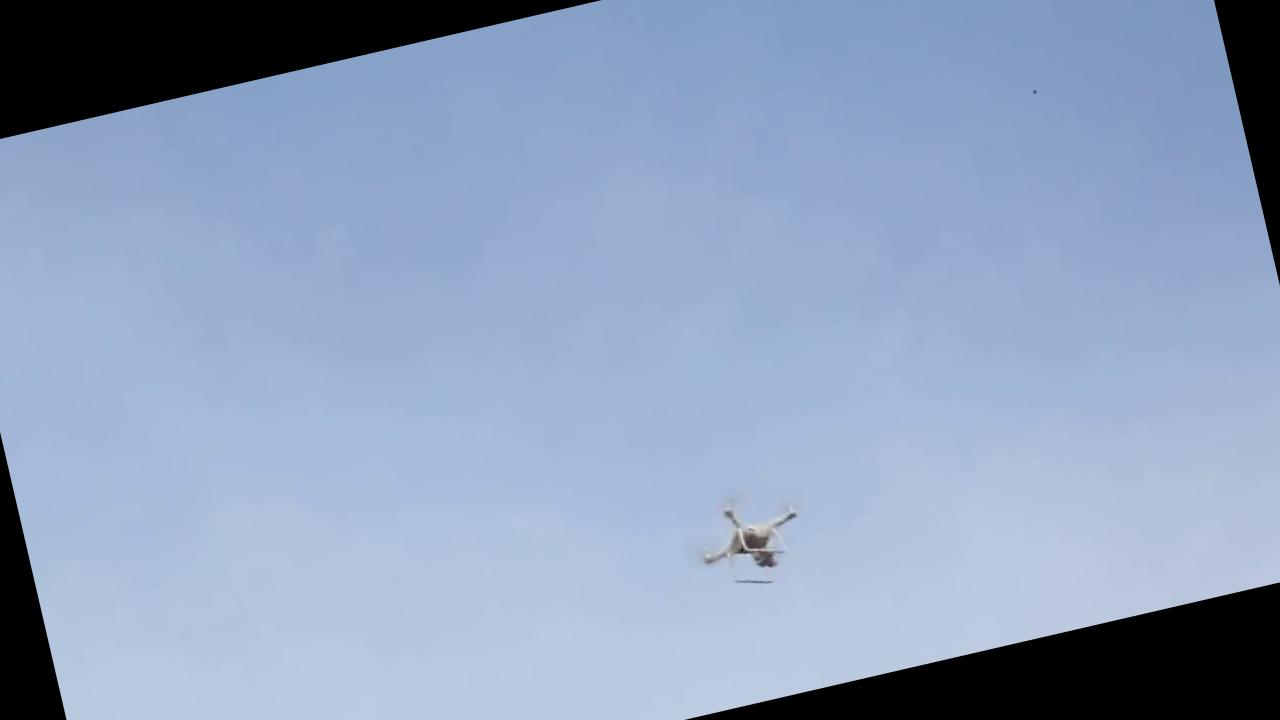drone: (666, 475, 829, 596)
